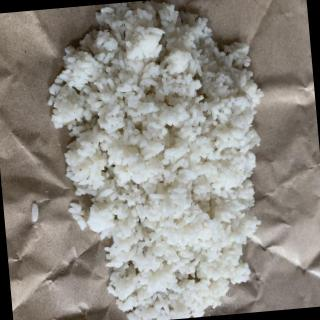Nasi: (45, 1, 281, 320)
